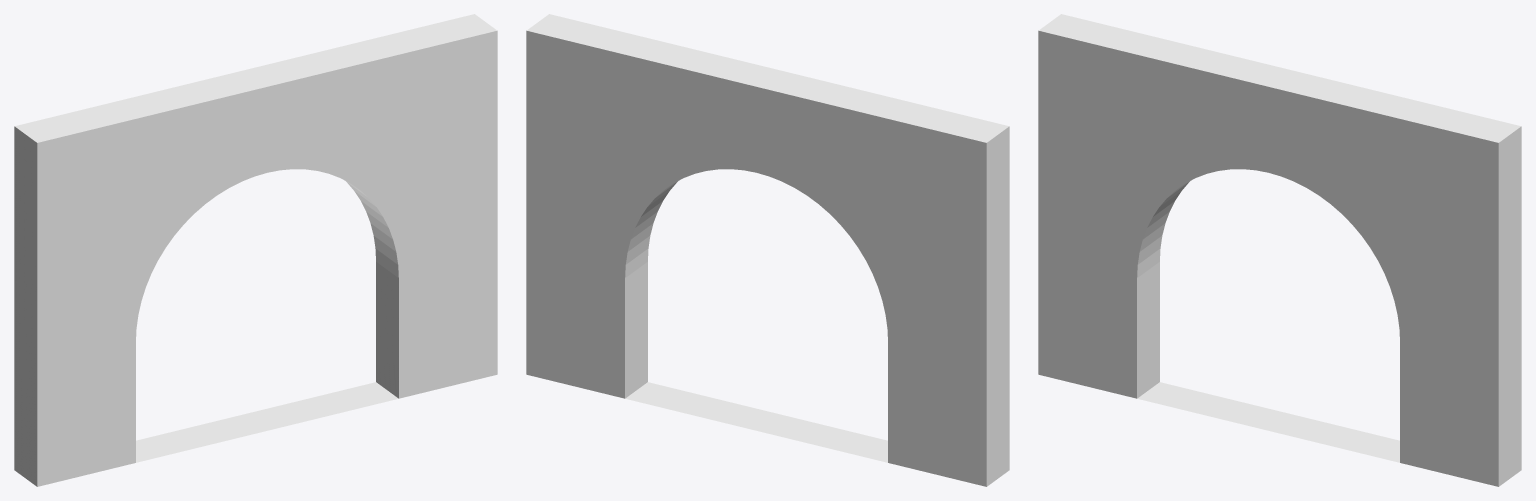
Rendered from victorian-portal-unit-authored-atlas.glb.
3 views of the same model, side by side, from view 1: azimuth 30°, elevation 25°; view 2: azimuth 150°, elevation 25°; view 3: azimuth 330°, elevation 25° (orthographic).
Visible parts, largest first — view 1: Authored surface.001; view 2: Authored surface.001; view 3: Authored surface.001.
Boxes of the visible parts, left/top/right/bottom form: Authored surface.001: left=14, top=14, right=497, bottom=486; Authored surface.001: left=526, top=14, right=1009, bottom=486; Authored surface.001: left=1038, top=14, right=1521, bottom=486.
Size of the model in its own units: 14 by 10 by 1.2.
Materials: 1 (1 with a texture image).
